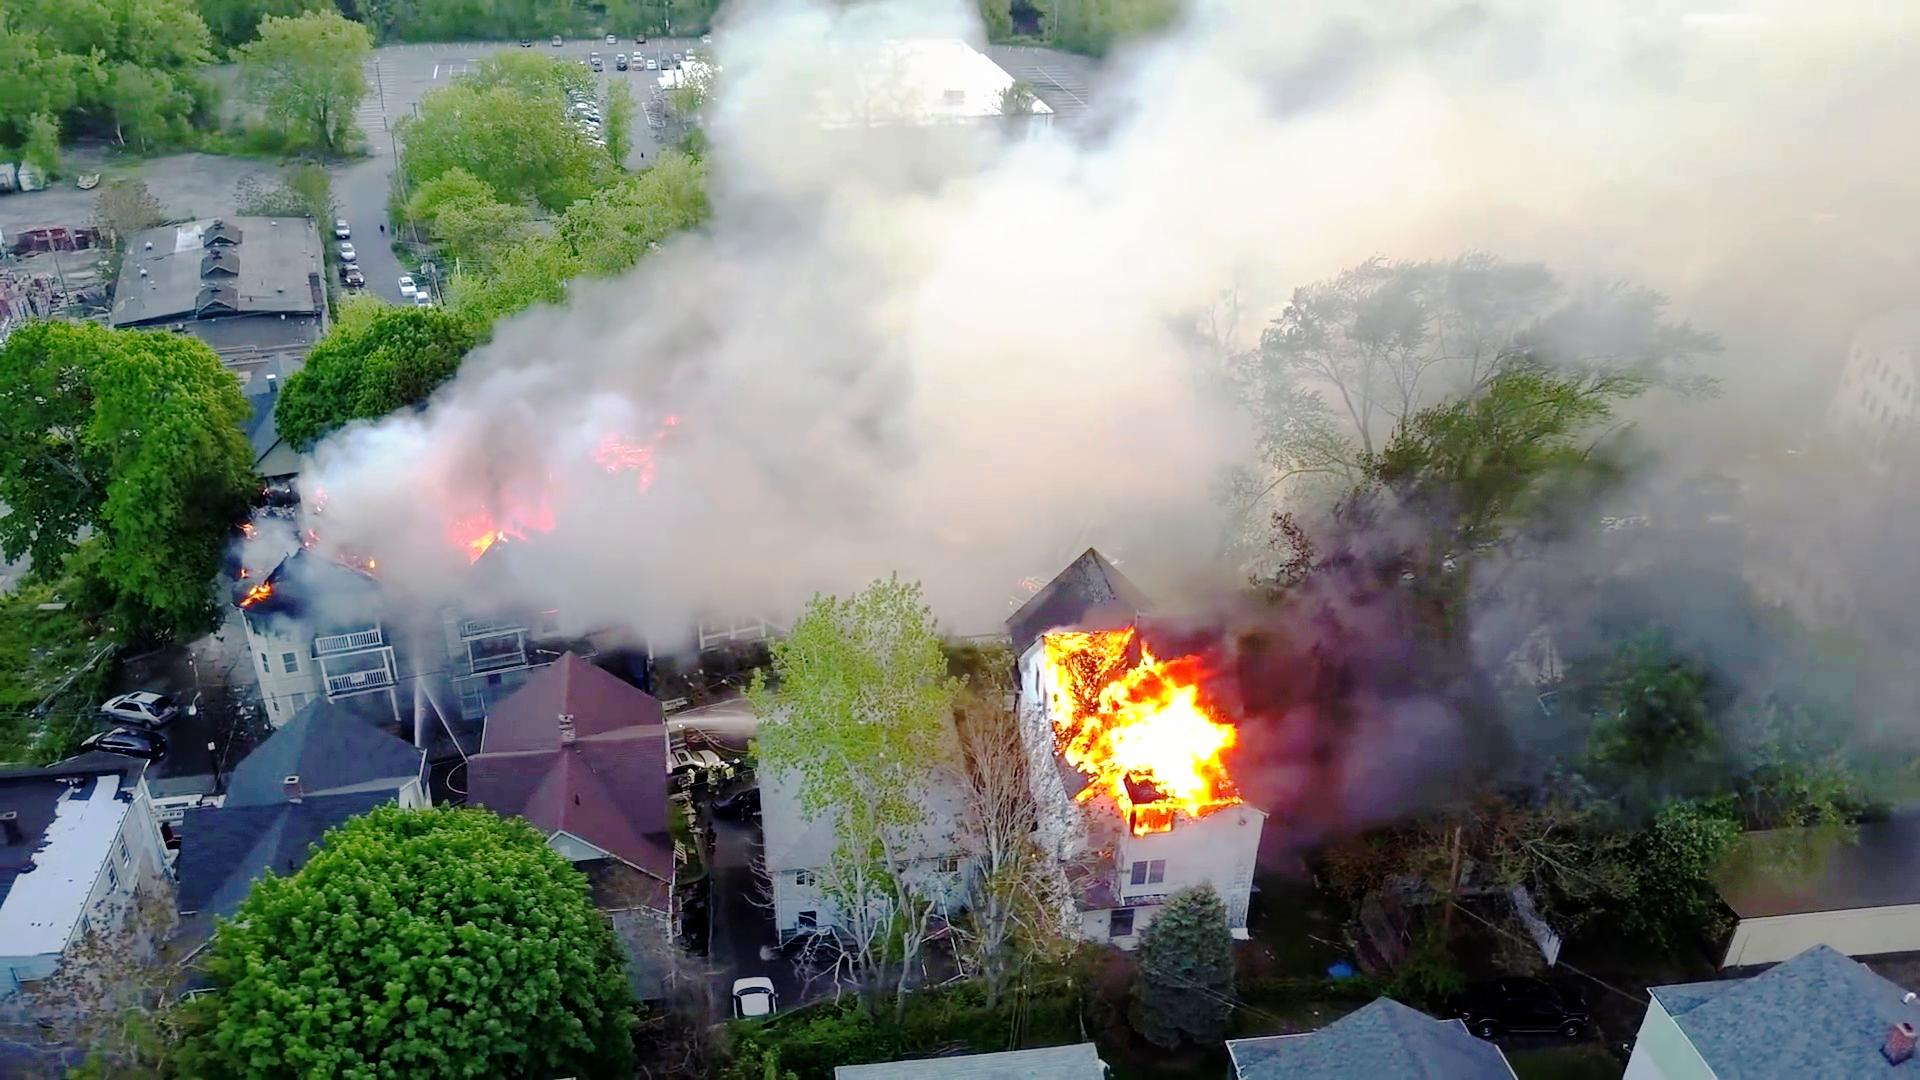fire: (1035, 636, 1225, 824)
smoke: (789, 276, 1160, 517)
